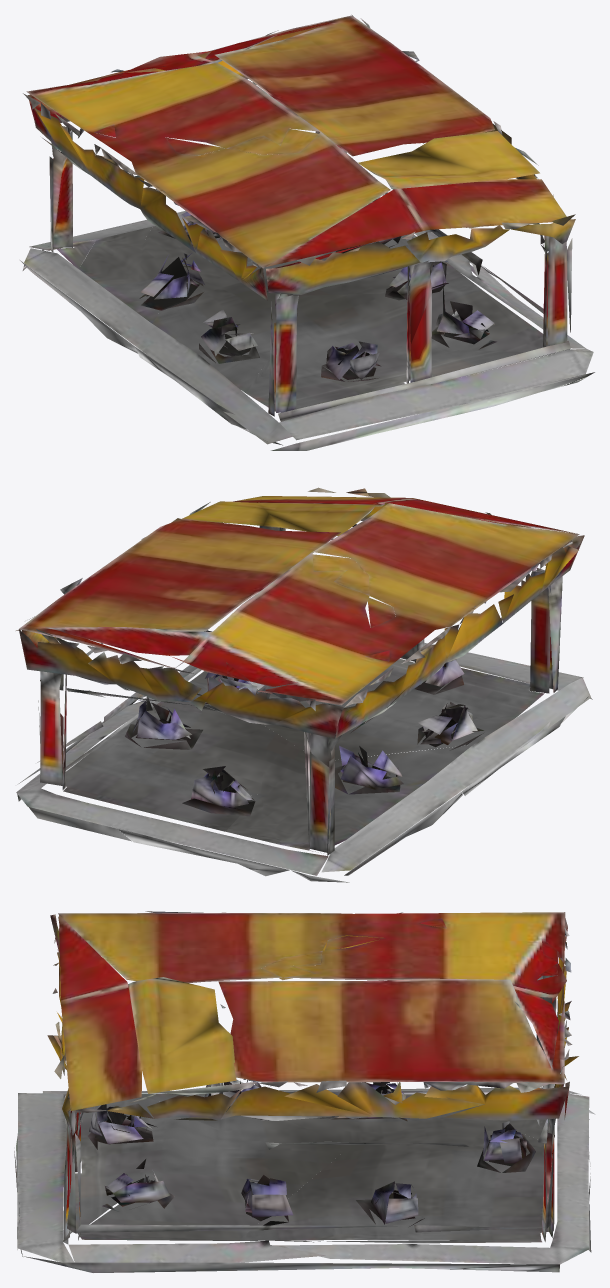
Rendered from jahrmarkt_autoscooter_lo.glb.
The picture shows the model from 3 angles, top to bottom: view 1: azimuth 30°, elevation 25°; view 2: azimuth 150°, elevation 25°; view 3: azimuth 270°, elevation 25°; orthographic projection. The views are drawn at different scales.
Visible parts, largest first — view 1: Prop; view 2: Prop; view 3: Prop.
Boxes of the visible parts, box(x1,y1,x2,y2) form: Prop: box(20, 15, 594, 450); Prop: box(16, 487, 592, 882); Prop: box(14, 911, 595, 1272).
Size of the model in its own units: 1.82 by 1 by 2.48.
Materials: 1 (1 with a texture image).
